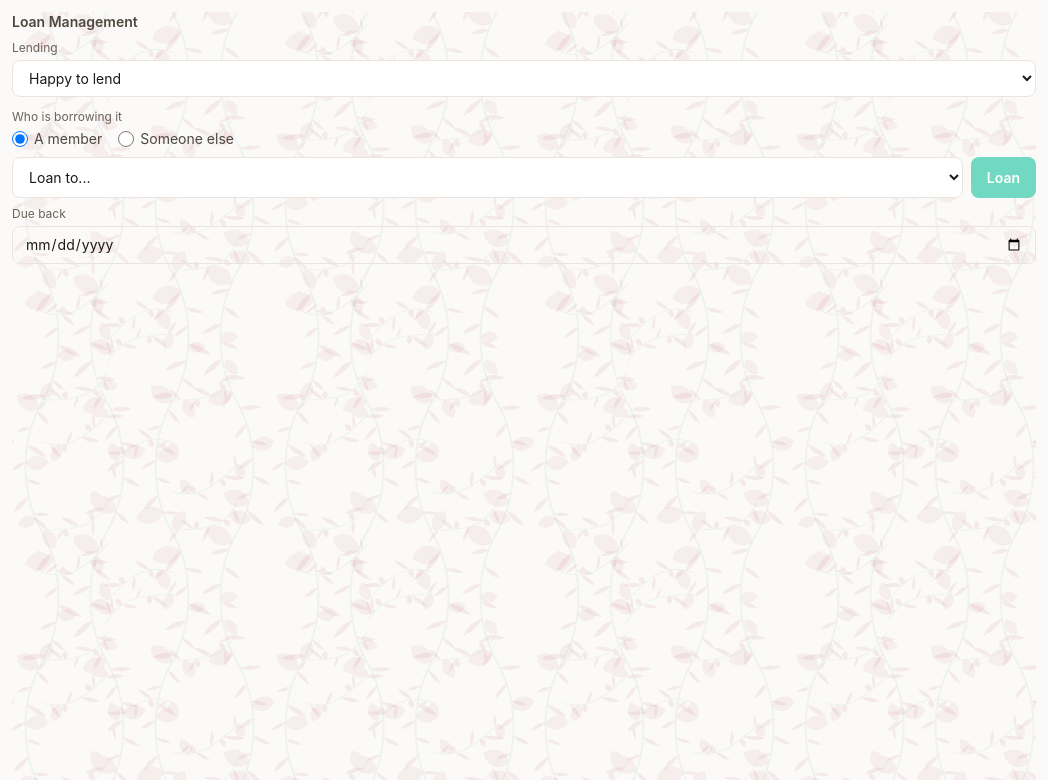
Test case: lending any other book › asks for no acknowledgement
Select "ana" in the dropdown named "Loan to". click: (487, 178)
box: [12,157,963,198]
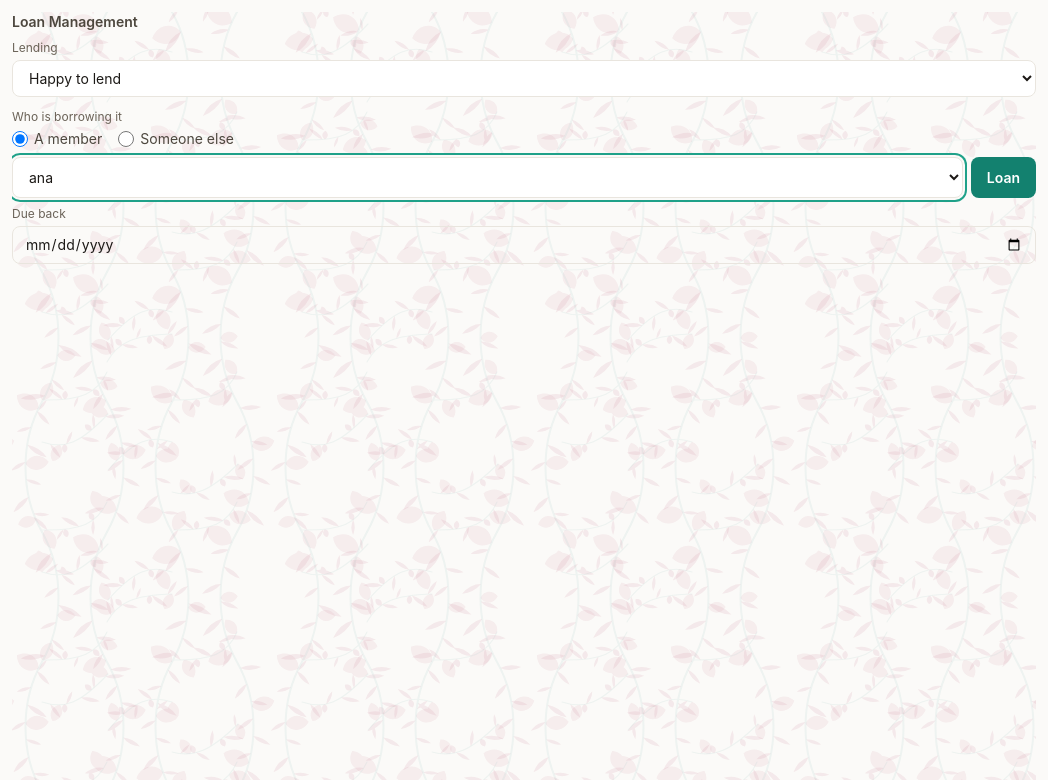
Expected: the button "Loan" is enabled, [971,157,1036,198]
